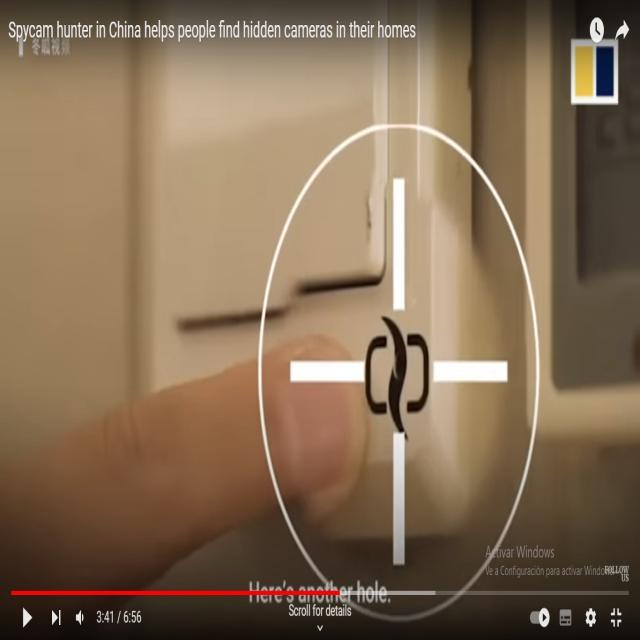hidden camera: (392, 353, 407, 385)
